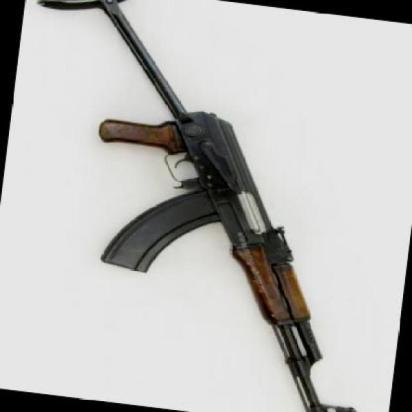Gun: (87, 18, 358, 412)
